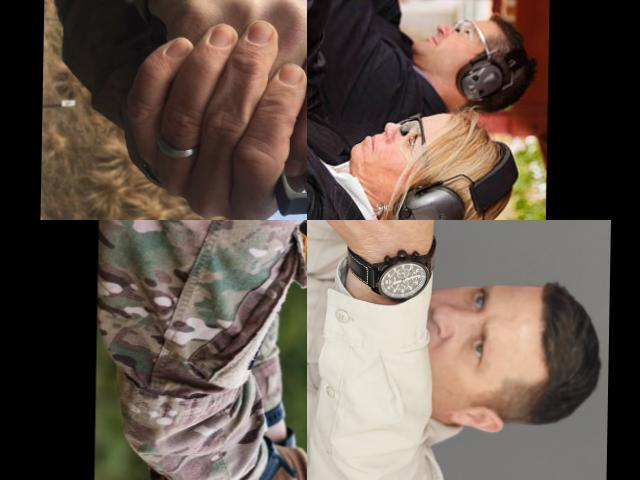handgun: (367, 220, 479, 269), (341, 0, 411, 53), (413, 0, 462, 42)
